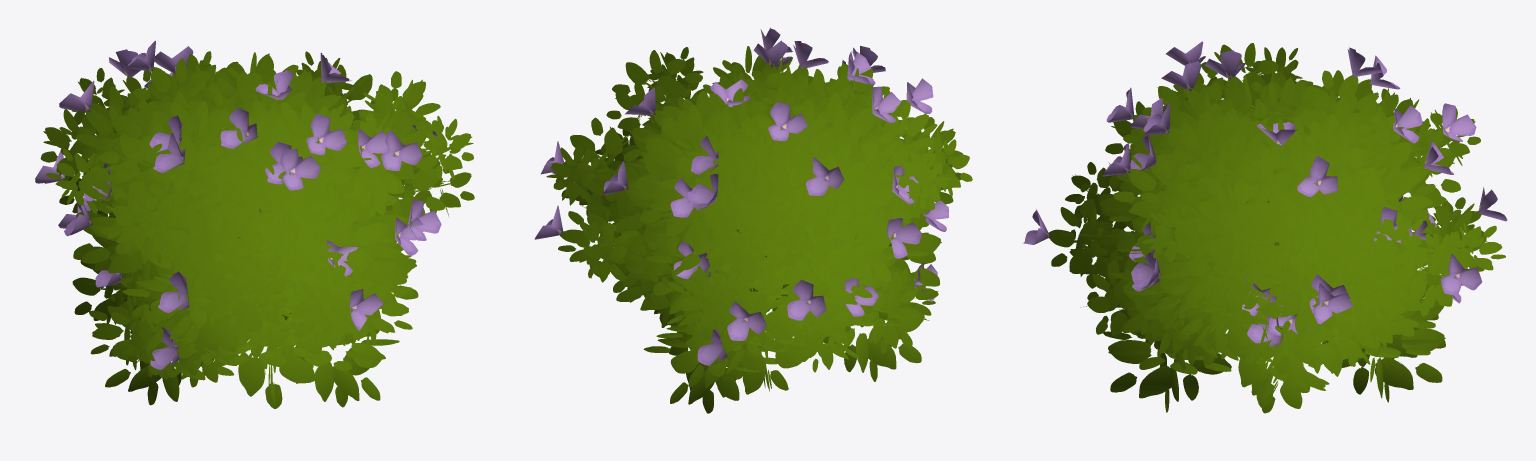
The model's file is n_bush_common_flowers.glb.
3 views of the same model, side by side, from view 1: azimuth 30°, elevation 25°; view 2: azimuth 150°, elevation 25°; view 3: azimuth 270°, elevation 25° (orthographic). The views are drawn at different scales.
Visible parts, largest first — view 1: Bush_Common_Flowers; view 2: Bush_Common_Flowers; view 3: Bush_Common_Flowers.
Part boxes in pixels (box(x1,y1,x2,y2)): Bush_Common_Flowers: box(35, 40, 474, 408); Bush_Common_Flowers: box(534, 27, 972, 413); Bush_Common_Flowers: box(1023, 41, 1507, 413).
Bounding box in the file's own units: 1.91 × 1.58 × 1.97.
Materials: 2 (2 with a texture image).
